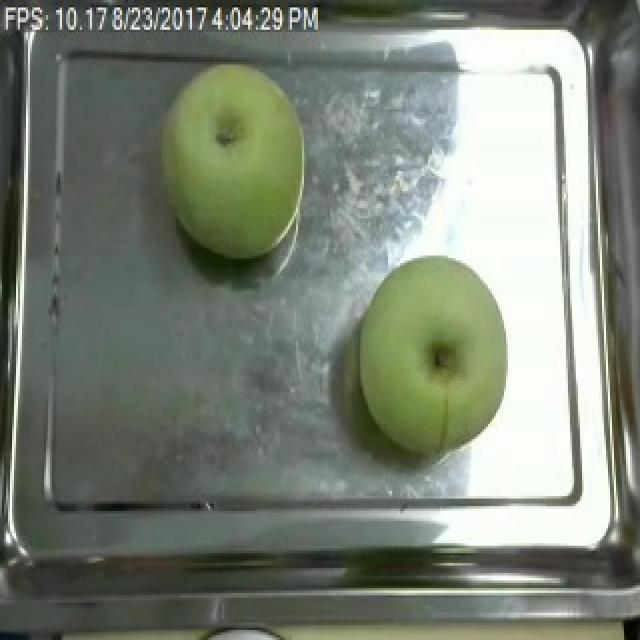50-_ripeness: (345, 250, 515, 452), (154, 66, 318, 266)
